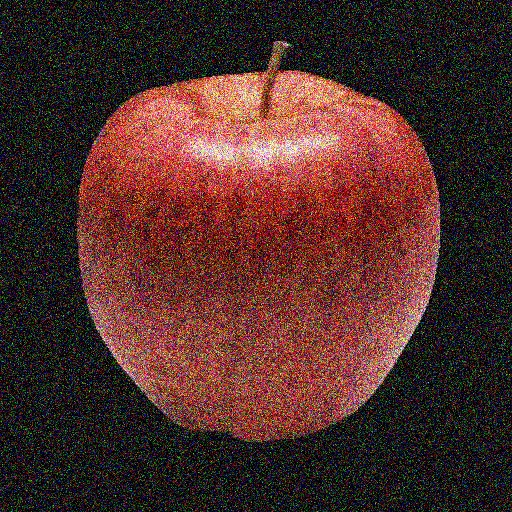fruit: (385, 129, 479, 452)
